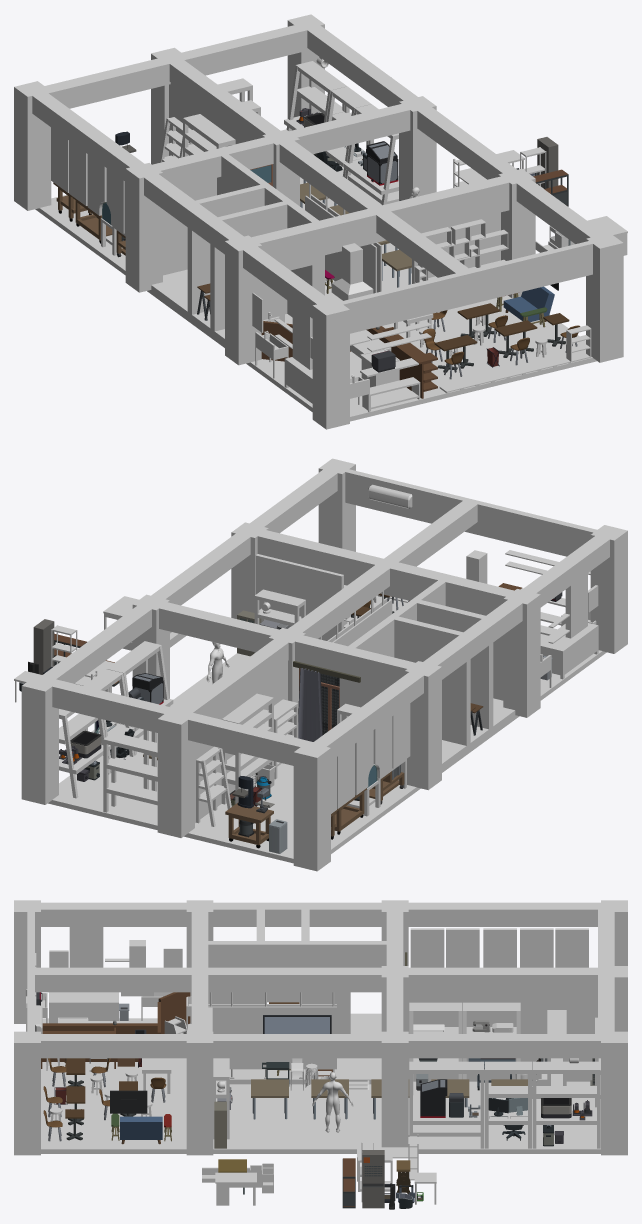
File: WorkshopLayout_Draft_Ver1.fbx
3 renders of one model, top to bottom at view 1: azimuth 30°, elevation 25°; view 2: azimuth 150°, elevation 25°; view 3: azimuth 270°, elevation 25°, orthographic.
Parts seen in each view (by area): view 1: msh_Floor_Mesh1, msh_CeilingSupportE_Mesh1, msh_CeilingSupportF_Mesh1, msh_CeilingSupportA_Mesh1, msh_CeilingSupportG_Mesh1, msh_CeilingSupportB_Mesh1, msh_CeilingSupportD_Mesh1, msh_CeilingSupportC_Mesh1, msh_PillarI_Mesh1, msh_PillarJ_Mesh1, msh_PillarA_Mesh1, msh_PillarD_Mesh1 (+39 smaller); view 2: msh_Floor_Mesh1, msh_CeilingSupportF_Mesh1, msh_CeilingSupportE_Mesh1, msh_CeilingSupportG_Mesh1, msh_CeilingSupportA_Mesh1, msh_CeilingSupportD_Mesh1, msh_CeilingSupportB_Mesh1, msh_CeilingSupportC_Mesh1, msh_PillarA_Mesh1, msh_PillarC_Mesh1, msh_PillarB_Mesh1, msh_WallC_Mesh1 (+41 smaller); view 3: msh_Floor_Mesh1, msh_CeilingSupportF_Mesh1, msh_CeilingSupportG_Mesh1, msh_CeilingSupportE_Mesh1, msh_WallB_Mesh1, msh_RoomDividerA_Mesh1, msh_PillarJ_Mesh1, msh_PillarH_Mesh1, msh_PillarC_Mesh1, msh_ShelvesB_Mesh4, msh_RoomDividerB_Mesh1, msh_PillarF_Mesh1 (+39 smaller).
Boxes of the visible parts, left/top/right/bottom form: msh_Floor_Mesh1: left=35, top=162, right=596, bottom=421; msh_CeilingSupportE_Mesh1: left=25, top=87, right=338, bottom=318; msh_CeilingSupportF_Mesh1: left=162, top=55, right=474, bottom=290; msh_CeilingSupportA_Mesh1: left=328, top=238, right=602, bottom=333; msh_CeilingSupportG_Mesh1: left=300, top=20, right=609, bottom=243; msh_CeilingSupportB_Mesh1: left=239, top=173, right=519, bottom=265; msh_CeilingSupportD_Mesh1: left=33, top=22, right=313, bottom=108; msh_CeilingSupportC_Mesh1: left=140, top=101, right=420, bottom=187; msh_PillarI_Mesh1: left=312, top=299, right=349, bottom=429; msh_PillarJ_Mesh1: left=586, top=233, right=623, bottom=362; msh_PillarA_Mesh1: left=14, top=81, right=51, bottom=210; msh_PillarD_Mesh1: left=125, top=163, right=162, bottom=292; msh_Floor_Mesh1: left=48, top=595, right=606, bottom=863; msh_CeilingSupportF_Mesh1: left=170, top=499, right=480, bottom=718; msh_CeilingSupportE_Mesh1: left=305, top=531, right=614, bottom=760; msh_CeilingSupportG_Mesh1: left=33, top=464, right=343, bottom=684; msh_CeilingSupportA_Mesh1: left=334, top=466, right=608, bottom=556; msh_CeilingSupportD_Mesh1: left=41, top=677, right=320, bottom=765; msh_CeilingSupportB_Mesh1: left=248, top=527, right=521, bottom=615; msh_CeilingSupportC_Mesh1: left=149, top=599, right=425, bottom=685; msh_PillarA_Mesh1: left=293, top=743, right=330, bottom=871; msh_PillarC_Mesh1: left=21, top=676, right=58, bottom=804; msh_PillarB_Mesh1: left=157, top=709, right=194, bottom=837; msh_WallC_Mesh1: left=394, top=616, right=470, bottom=745; msh_Floor_Mesh1: left=41, top=1018, right=600, bottom=1153; msh_CeilingSupportF_Mesh1: left=34, top=967, right=614, bottom=992; msh_CeilingSupportG_Mesh1: left=27, top=1034, right=614, bottom=1058; msh_CeilingSupportE_Mesh1: left=27, top=902, right=614, bottom=926; msh_WallB_Mesh1: left=208, top=941, right=400, bottom=1033; msh_RoomDividerA_Mesh1: left=408, top=992, right=597, bottom=1081; msh_PillarJ_Mesh1: left=14, top=1031, right=40, bottom=1155; msh_PillarH_Mesh1: left=186, top=1031, right=213, bottom=1155; msh_PillarC_Mesh1: left=601, top=1031, right=627, bottom=1155; msh_ShelvesB_Mesh4: left=409, top=1061, right=484, bottom=1148; msh_RoomDividerB_Mesh1: left=208, top=1006, right=336, bottom=1069; msh_PillarF_Mesh1: left=381, top=1031, right=408, bottom=1147.
Size of the model in its own units: 12.32 by 3.39 by 16.19.
